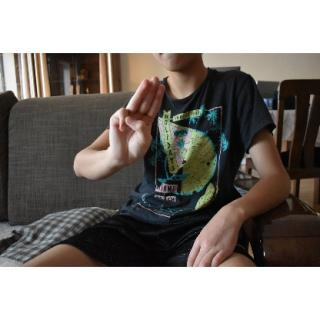THA: (105, 73, 167, 171)
